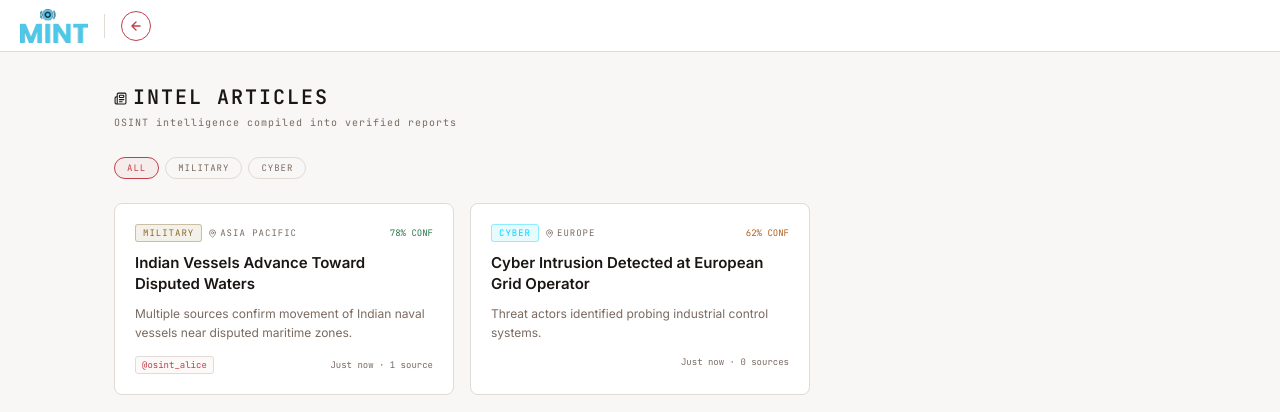
Test: ArticlesPage › filters articles by tag
The width and height of the screenshot is (1280, 412).
Click the button "CYBER".
click(277, 168)  # box [248, 157, 306, 179]
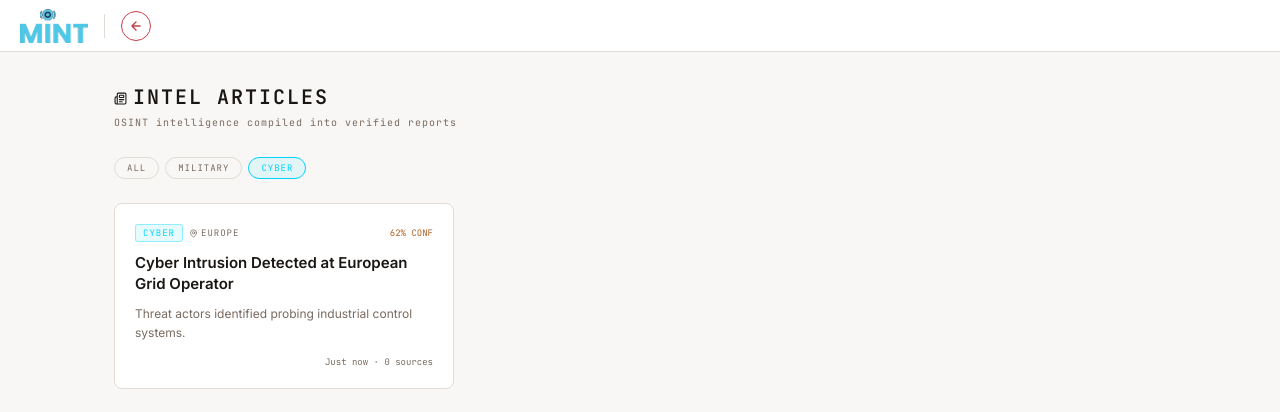
expect the text "Cyber Intrusion Detected at European Grid Operator" is shown: met, box [135, 252, 433, 294]
expect the text "Indian Vessels Advance Toward Disputed Waters" is gone: met
